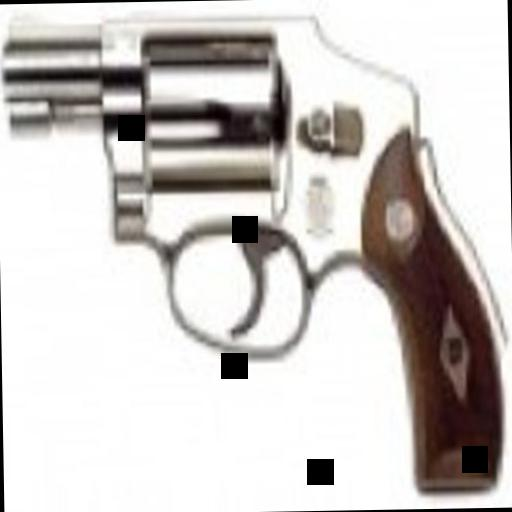Handgun: (3, 0, 502, 506)
